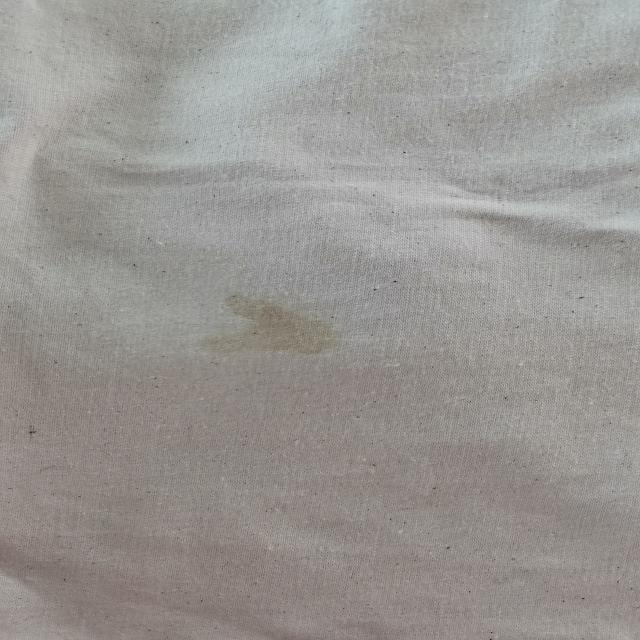taaaches: (191, 286, 349, 365)
